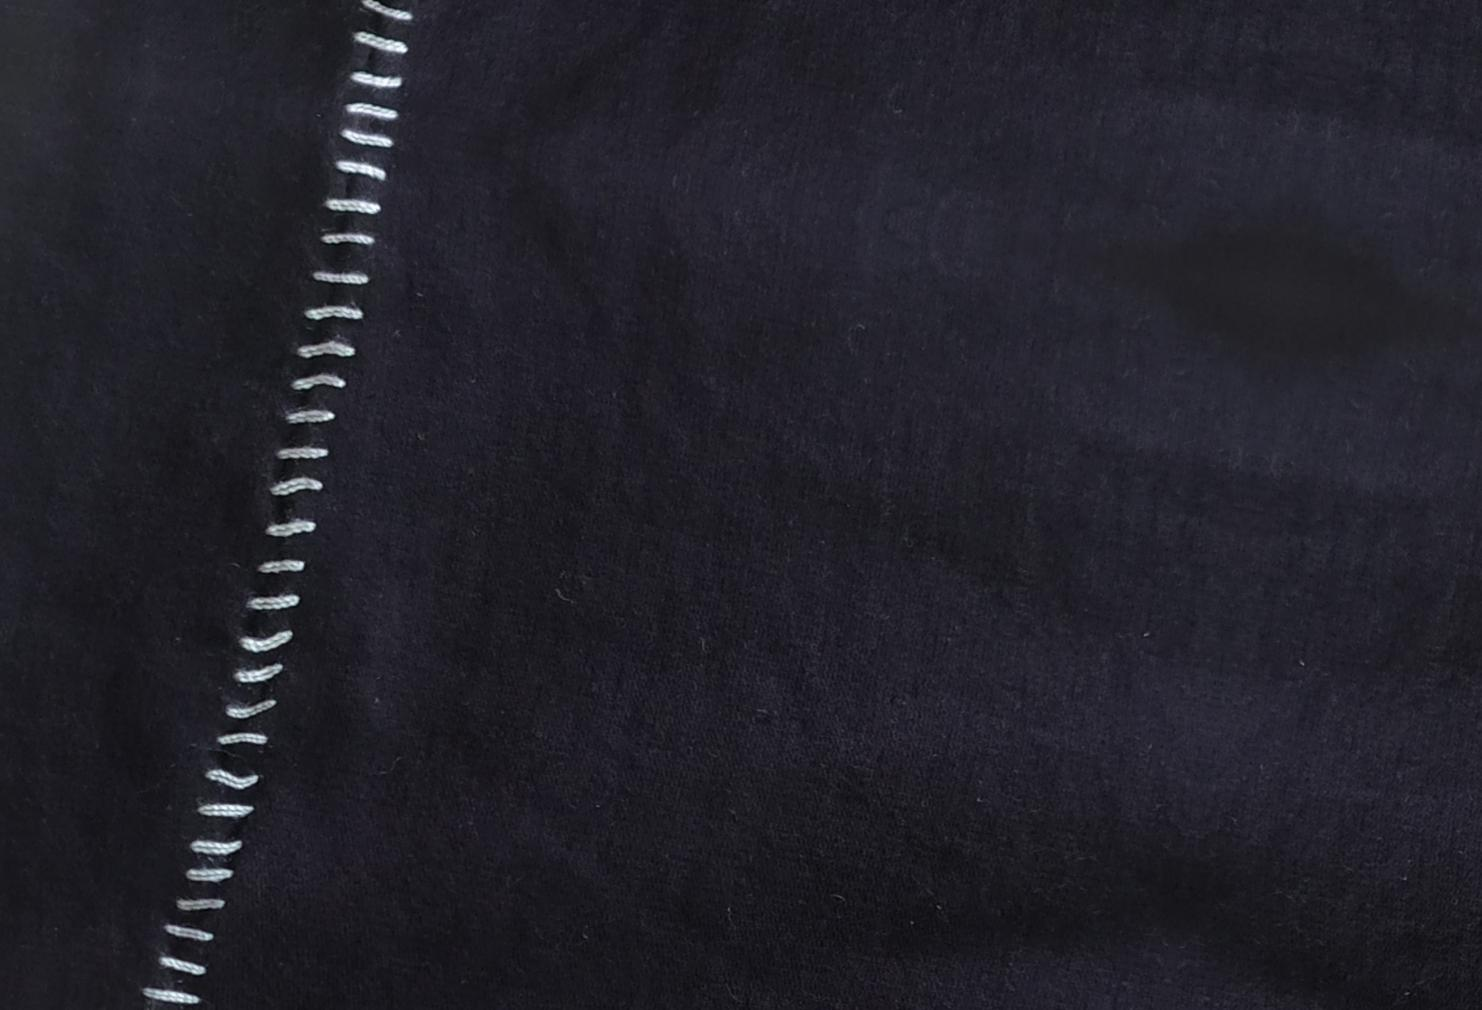slub: (130, 0, 447, 1008)
